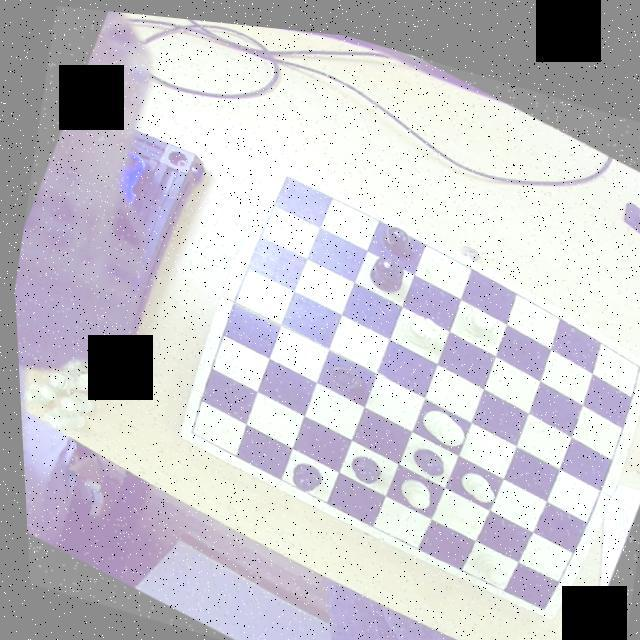chess-table-corners: (270, 158, 303, 192), (173, 410, 204, 442), (518, 582, 552, 610), (620, 342, 640, 370)
